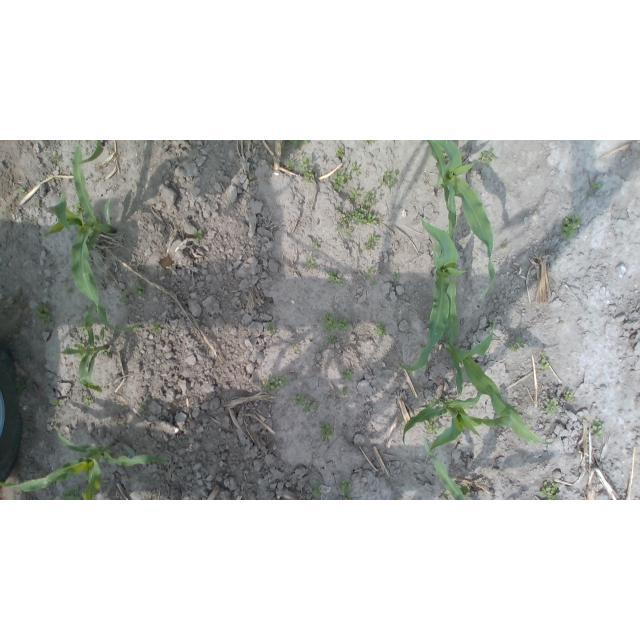Maize: (43, 141, 142, 336), (439, 326, 560, 447), (1, 429, 164, 500), (426, 140, 495, 300), (397, 216, 467, 373), (402, 391, 509, 462), (63, 304, 110, 395), (422, 437, 471, 500)
Weeds: (336, 204, 382, 227), (559, 212, 582, 240), (323, 315, 350, 333), (261, 376, 288, 393), (34, 302, 53, 326), (296, 395, 321, 413), (477, 148, 500, 167), (300, 156, 315, 185), (539, 481, 560, 500), (319, 419, 335, 441), (60, 485, 82, 500), (338, 478, 352, 500), (540, 398, 558, 415), (508, 337, 526, 354), (380, 171, 396, 189), (327, 269, 345, 285), (332, 170, 344, 193), (425, 417, 440, 434), (592, 419, 605, 437), (365, 236, 380, 251), (587, 182, 602, 196), (364, 190, 377, 205), (132, 280, 145, 295), (347, 188, 360, 201), (375, 323, 387, 337), (538, 359, 550, 372), (563, 389, 574, 403), (194, 229, 205, 243), (74, 201, 84, 215), (119, 292, 129, 305), (352, 163, 361, 177), (52, 153, 63, 164), (305, 257, 315, 269), (365, 265, 375, 277), (312, 484, 321, 497), (459, 486, 470, 496), (151, 323, 161, 333), (336, 148, 345, 159), (344, 226, 353, 237), (343, 370, 352, 381), (268, 323, 277, 334), (290, 140, 302, 148), (328, 335, 337, 345), (19, 187, 28, 197), (83, 396, 93, 405), (79, 324, 88, 333), (288, 159, 295, 170), (502, 240, 509, 250), (51, 399, 61, 406), (342, 388, 349, 397), (292, 341, 299, 350), (314, 241, 321, 249), (489, 320, 495, 329), (77, 341, 86, 347), (345, 172, 351, 180), (395, 270, 401, 278), (365, 140, 376, 144), (66, 288, 72, 295), (336, 225, 341, 231), (303, 140, 310, 144), (36, 204, 40, 210), (319, 348, 323, 352)
